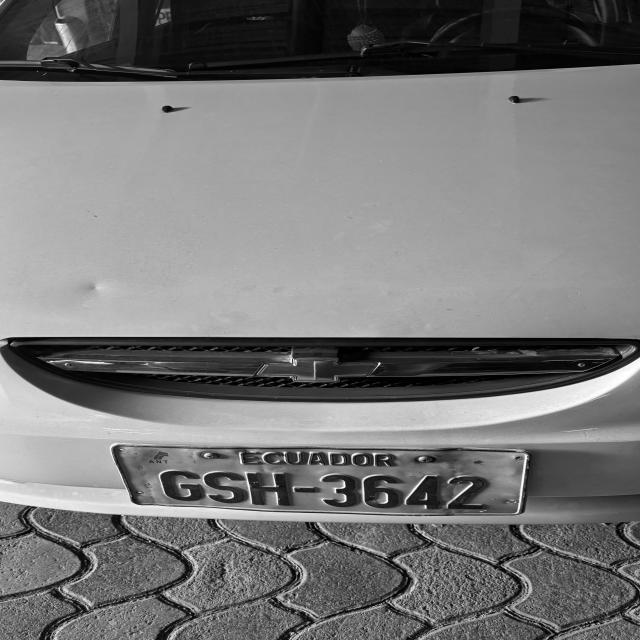Placa: (114, 445, 528, 515)
